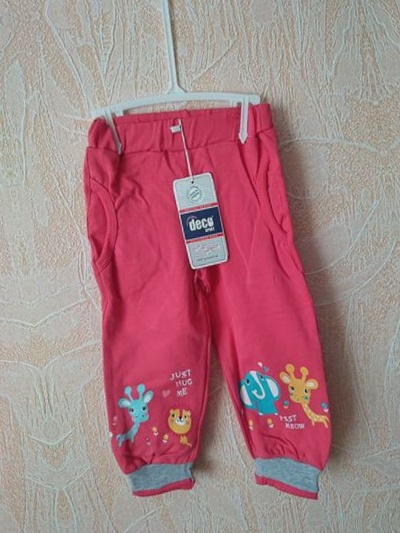Pants: (45, 63, 380, 533), (0, 120, 24, 533)
